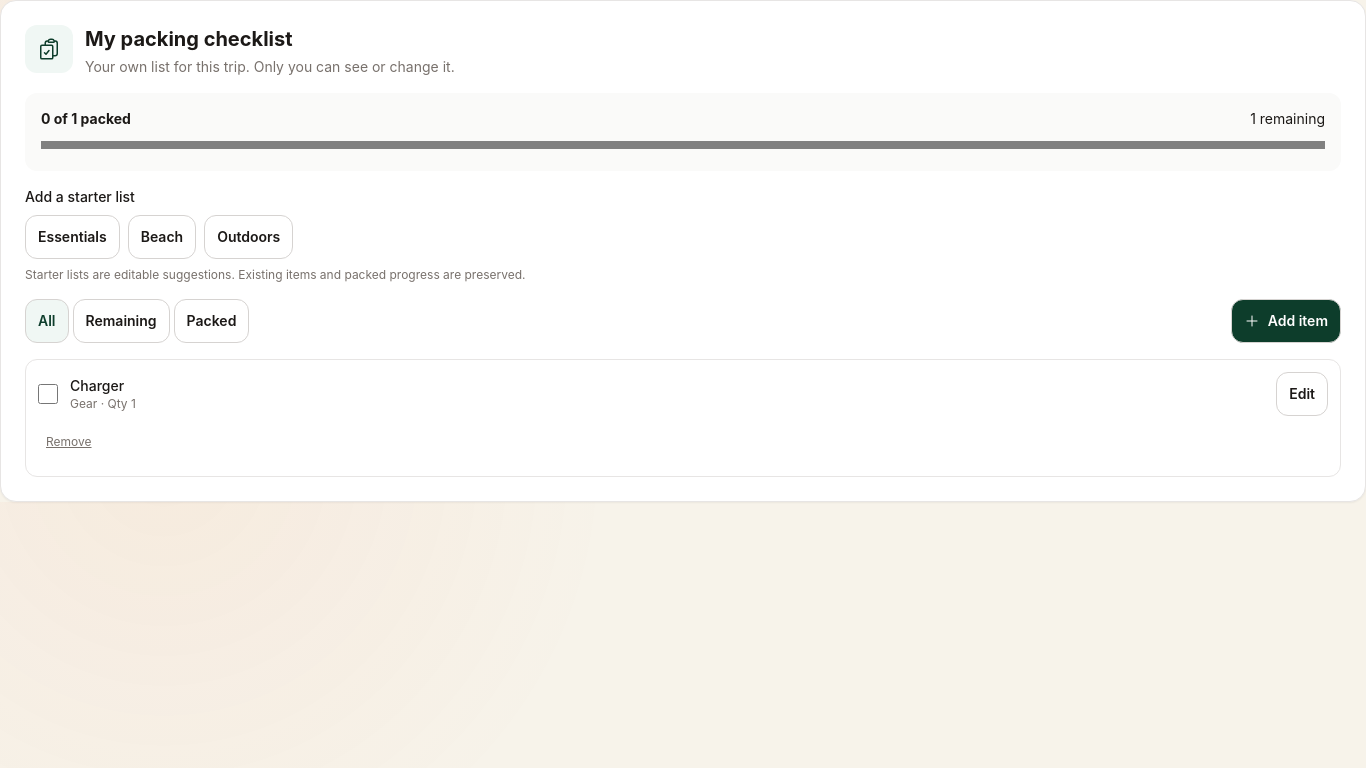
Test: saves packed progress before displaying success
Click the checkbox named "Packed: Charger" at x=48, y=394, box [38, 384, 58, 404]
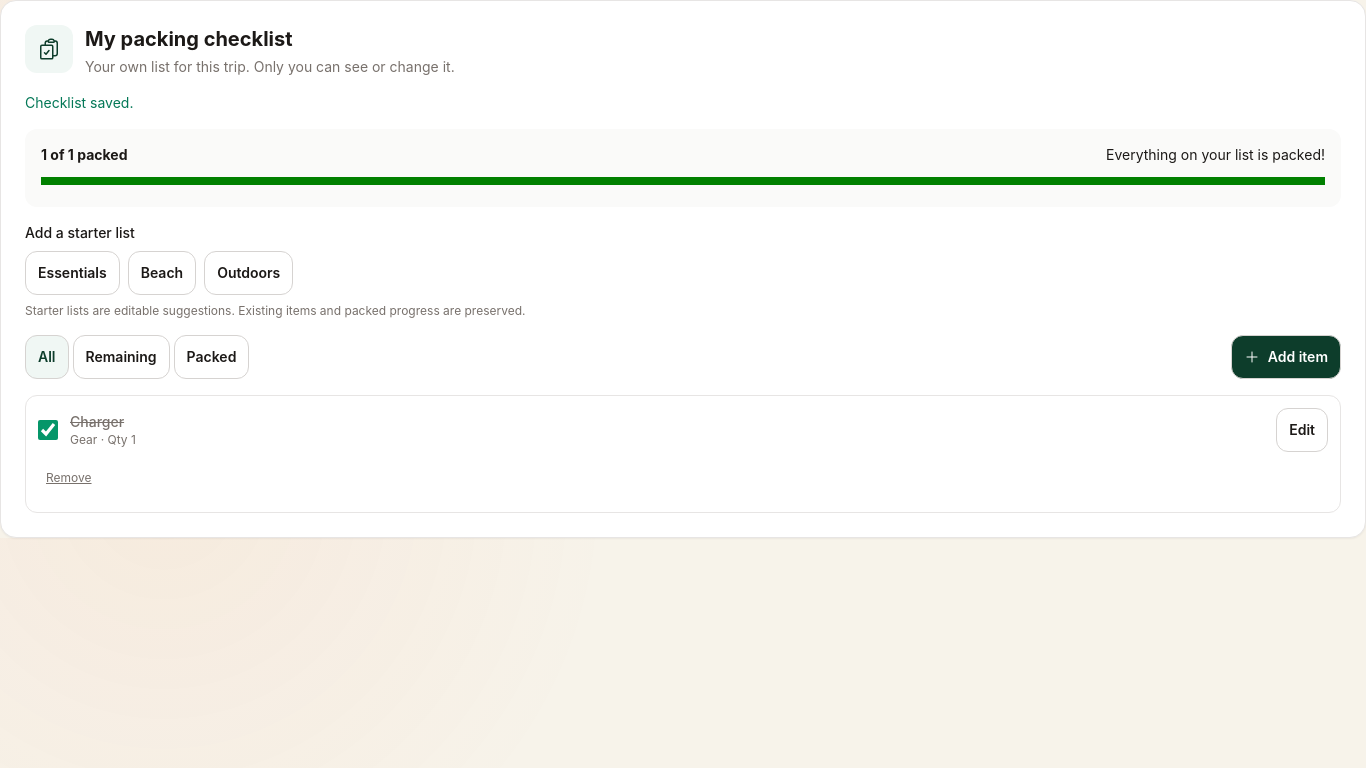
Result: the text "1 of 1 packed" is shown at [41, 145, 128, 165]
